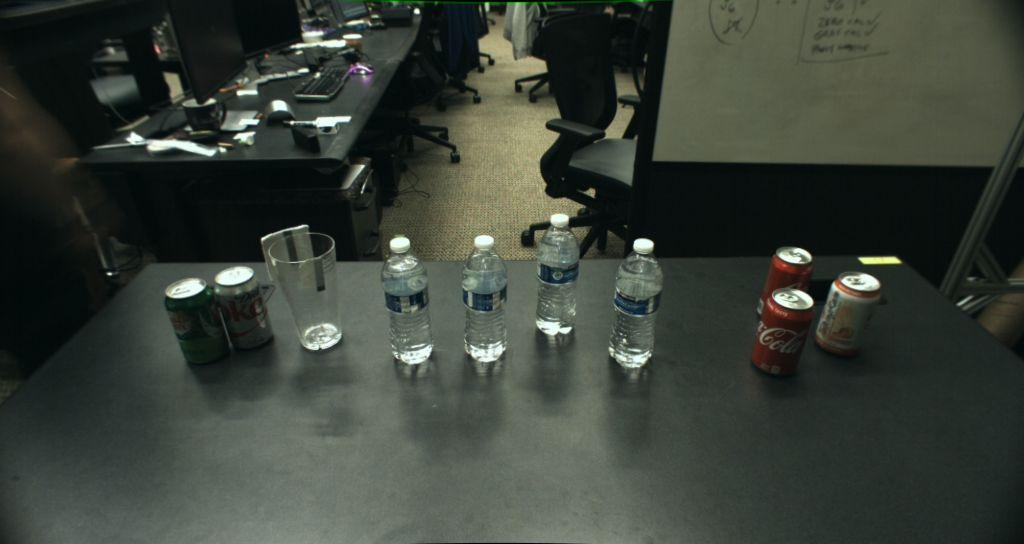can_coke: (754, 289, 814, 377)
can_diet_coke: (213, 265, 276, 352)
can_ginger_ale: (165, 277, 230, 366)
can_talking_rain_peach_nectarine: (815, 269, 882, 355)
water_bottle: (608, 237, 664, 368), (381, 237, 434, 365), (462, 235, 508, 362), (535, 214, 580, 336)
